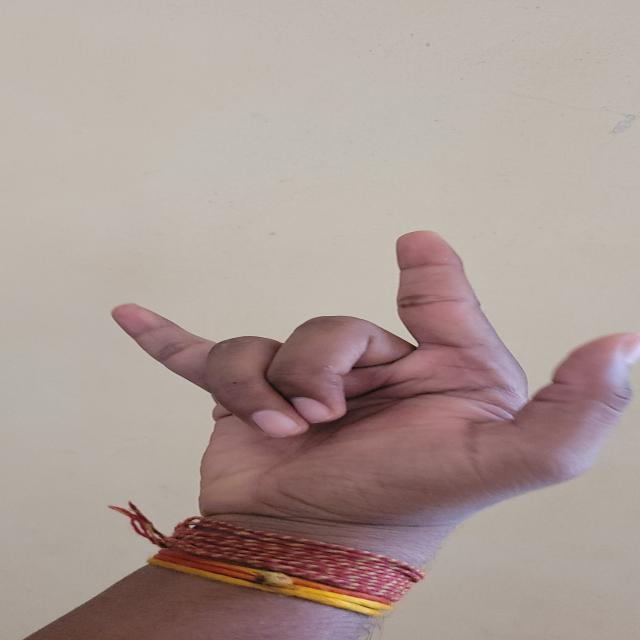i like you: (61, 210, 640, 582)
